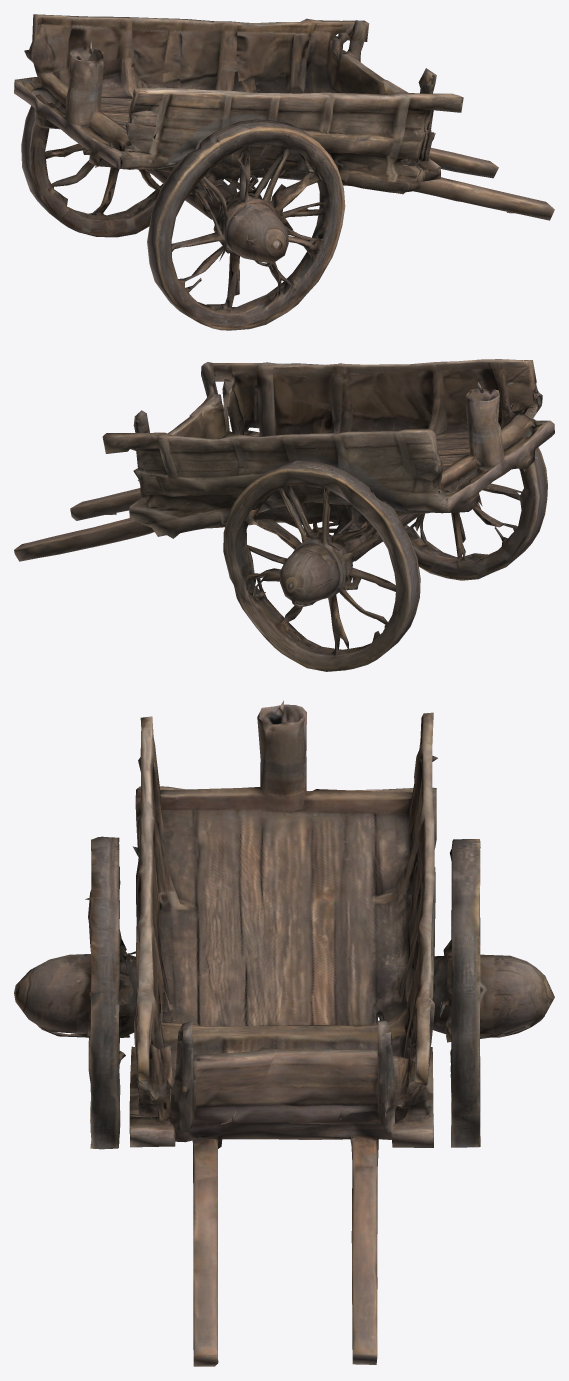
File: old_cart.glb
3 views of the same model, one above another, from view 1: azimuth 30°, elevation 25°; view 2: azimuth 150°, elevation 25°; view 3: azimuth 270°, elevation 25° (orthographic). The views are drawn at different scales.
Visible parts, largest first — view 1: model; view 2: model; view 3: model.
Boxes of the visible parts, x1,y1,x2,y2 form: model: [14, 14, 554, 330]; model: [14, 359, 554, 671]; model: [14, 700, 554, 1366].
Size of the model in its own units: 2 by 1.1 by 1.45.
1 material, 1 textured.
